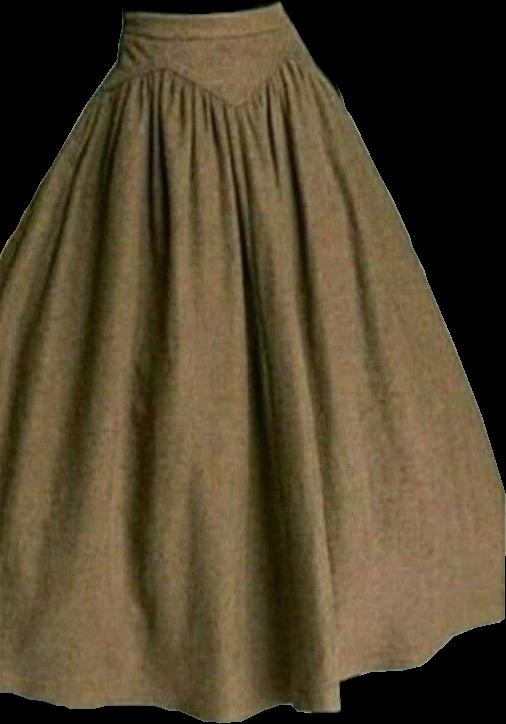Hemline: (0, 616, 505, 723)
Waistline: (90, 59, 329, 104), (122, 0, 283, 21)
